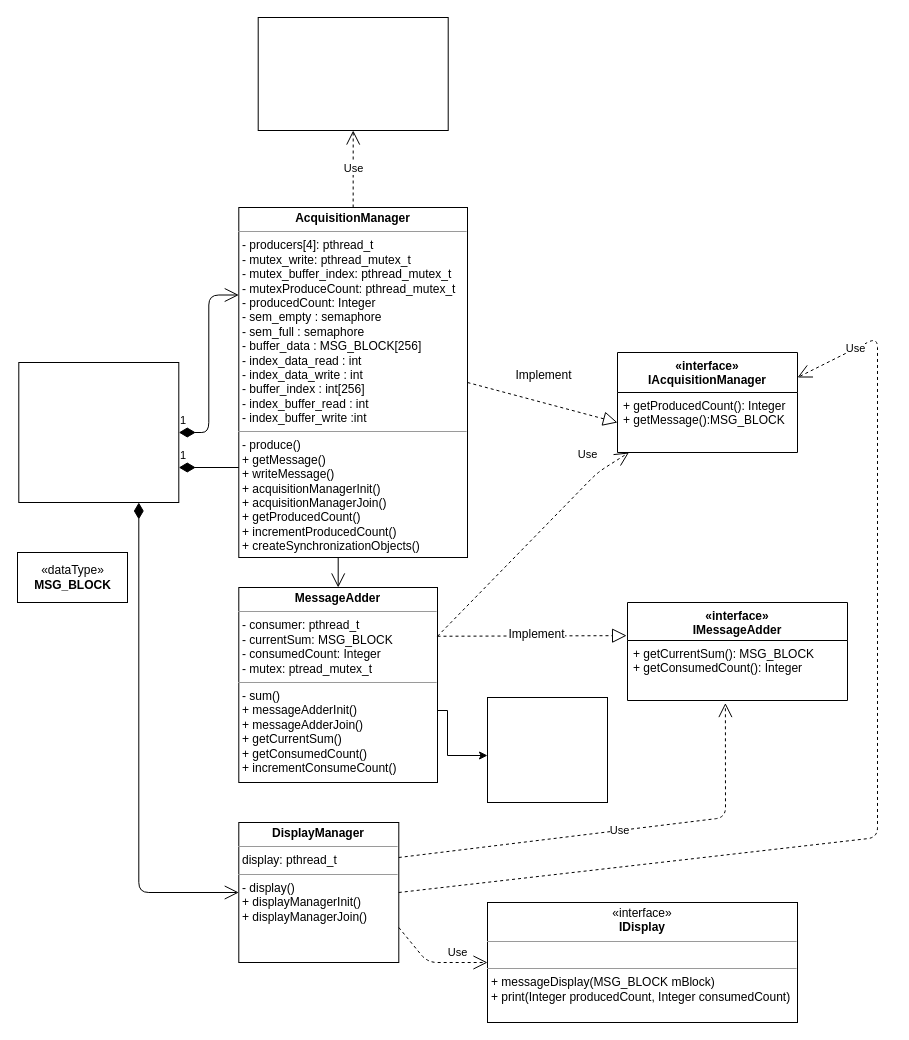
Some shapes in this 909 by 1040 pixel diagram are drawn without their labels. The centre of each missing label's shape, as x and y in pixels:
Msg - messageAdd() - messageCheck(): (547,749)
MultitaskingAccumulator + main(): (98,432)
«interface» ISensor + getInput(int i): MSG_BLOCK: (352,73)
